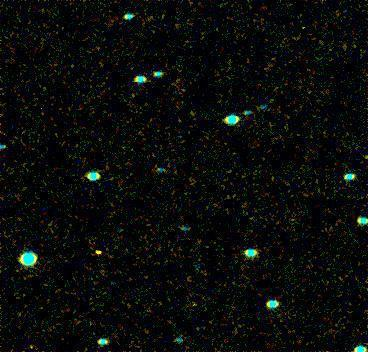star: (85, 239, 115, 269)
